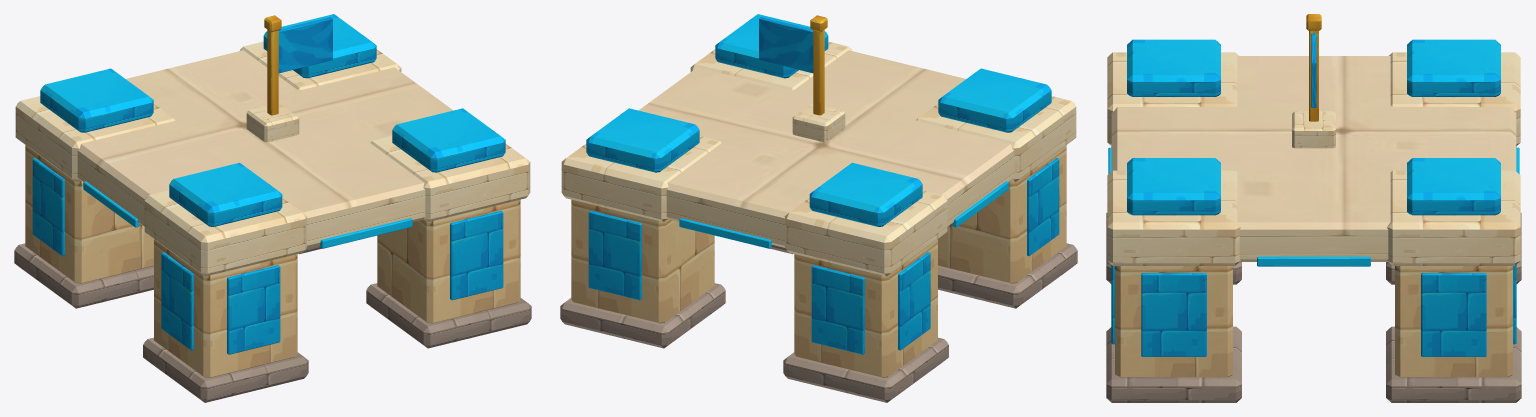
Rendered from player-base.glb.
The picture shows the model from 3 angles, left to right: view 1: azimuth 30°, elevation 25°; view 2: azimuth 150°, elevation 25°; view 3: azimuth 270°, elevation 25°; orthographic projection. The views are drawn at different scales.
Parts seen in each view (by area): view 1: player-base; view 2: player-base; view 3: player-base.
Part boxes in pixels (bbox=[...]): player-base: bbox=[14, 14, 531, 402]; player-base: bbox=[560, 14, 1077, 402]; player-base: bbox=[1106, 14, 1521, 402].
Size of the model in its own units: 1.9 by 1.52 by 1.9.
Materials: 1 (1 with a texture image).
